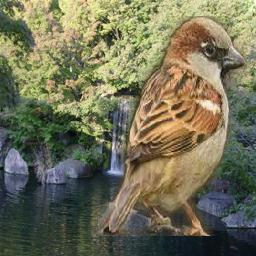Sparrow: (99, 16, 248, 236)
